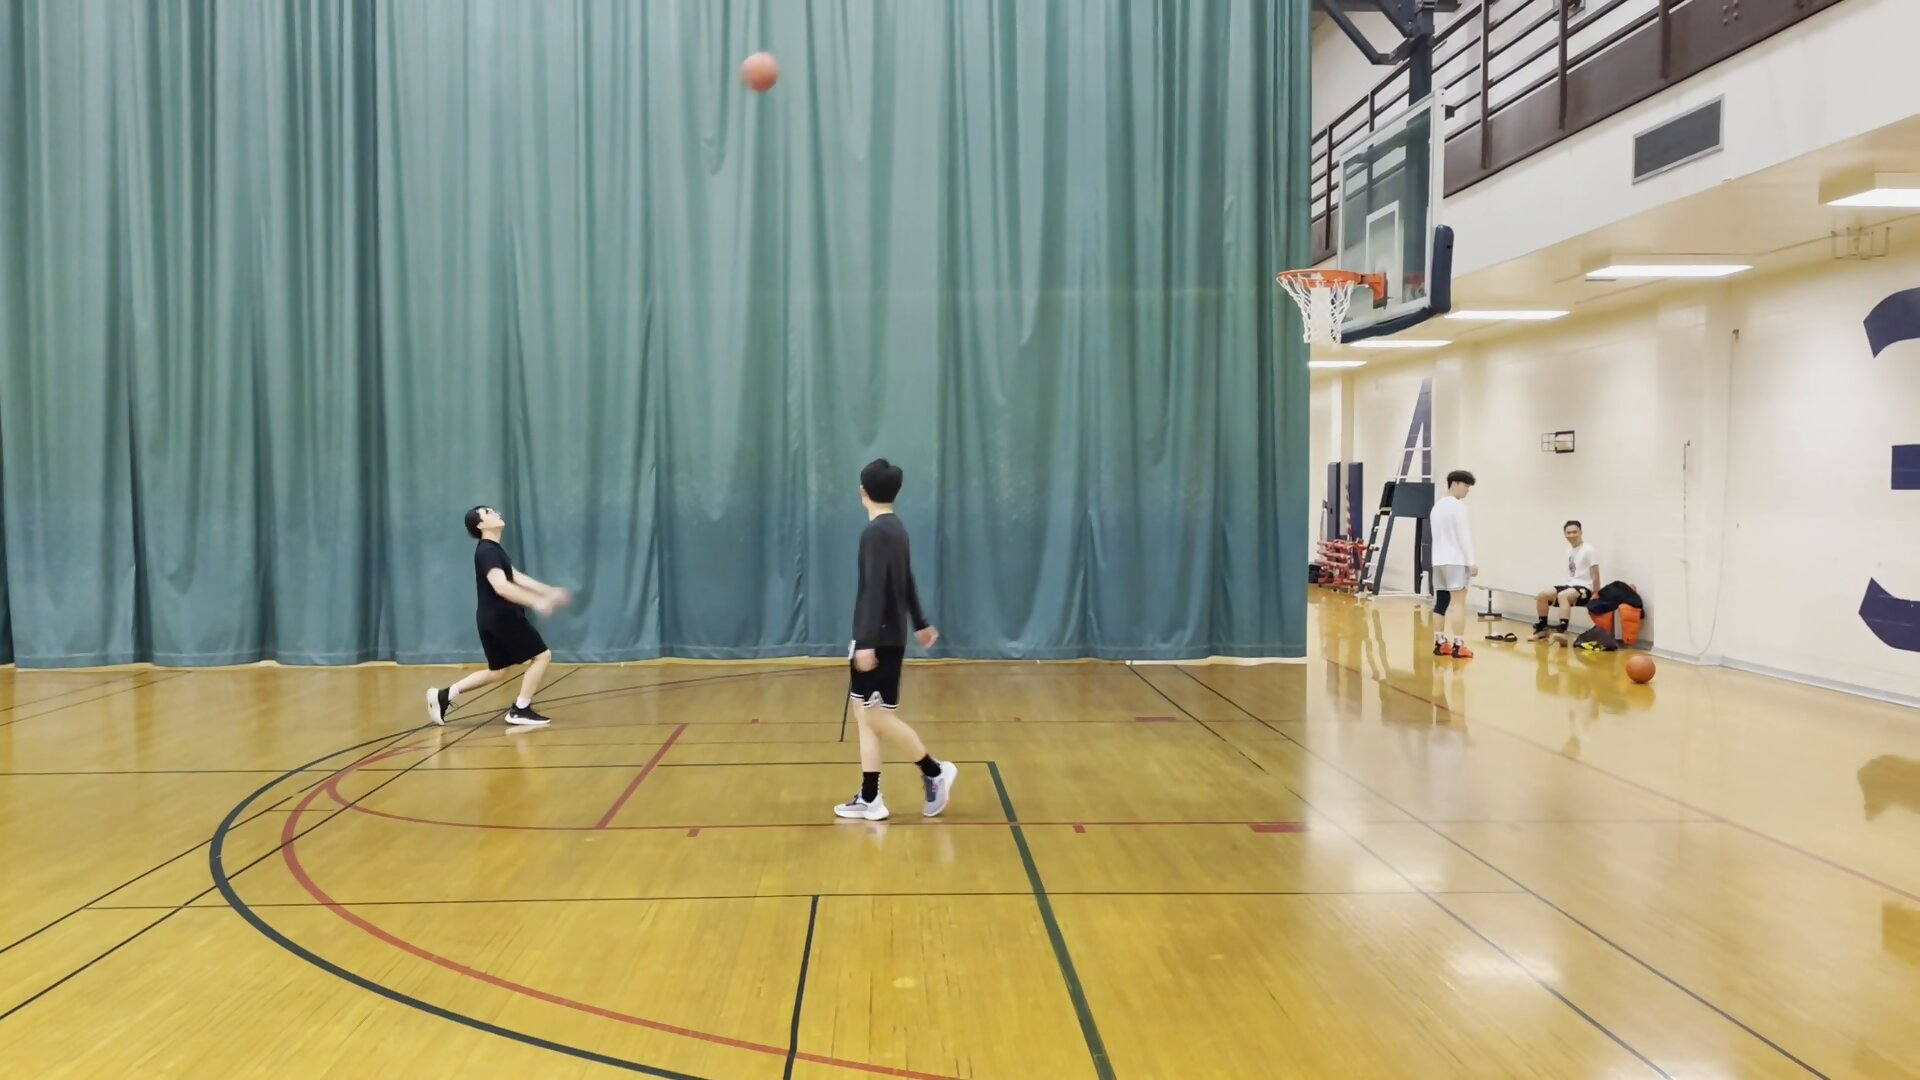ball: (733, 43, 785, 93), (1619, 653, 1663, 687)
net: (1292, 317, 1351, 351)
player: (830, 454, 960, 822), (425, 495, 567, 738), (1424, 467, 1476, 663), (1535, 516, 1606, 646)
rim: (1272, 260, 1364, 296)
